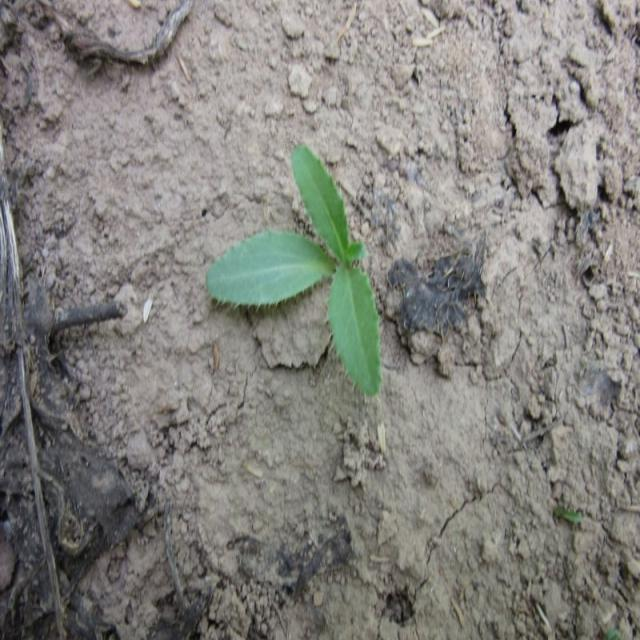cs: (202, 137, 386, 405)
